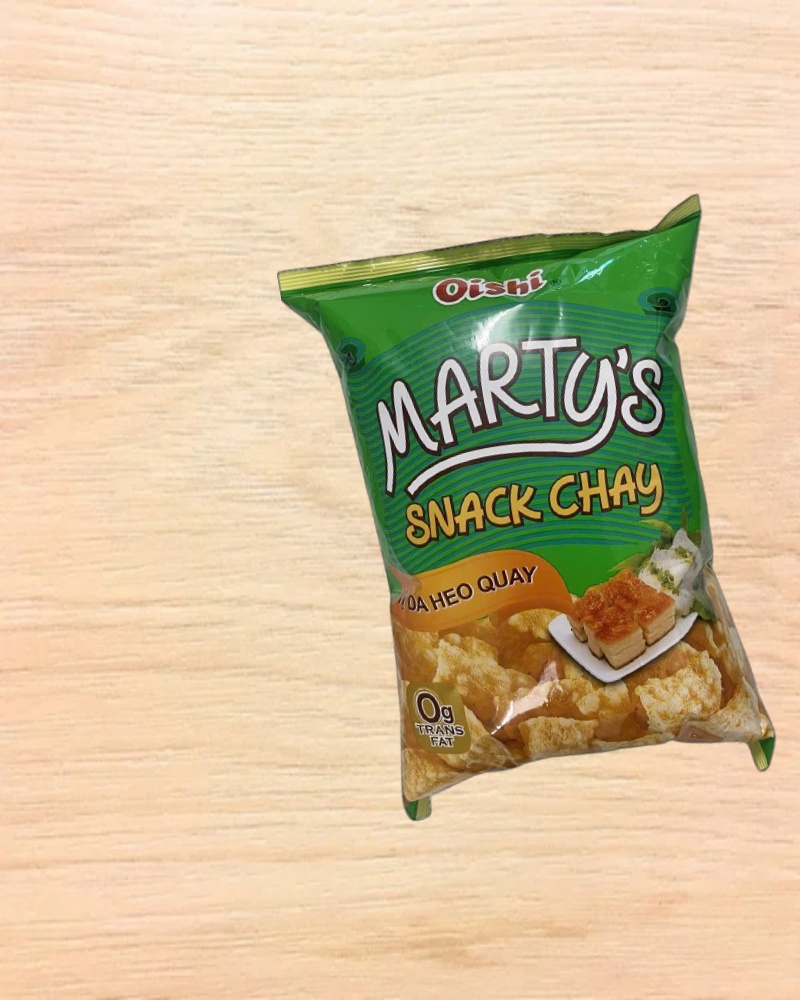Snack chay: (277, 194, 800, 840)
